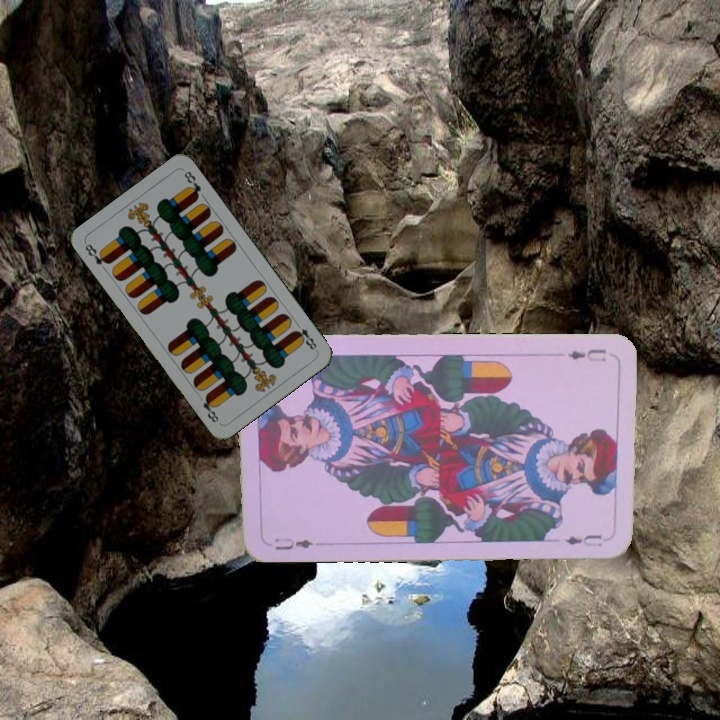E8: (290, 318, 320, 354), (81, 240, 113, 268)
EU: (271, 534, 316, 553), (563, 345, 608, 364)
